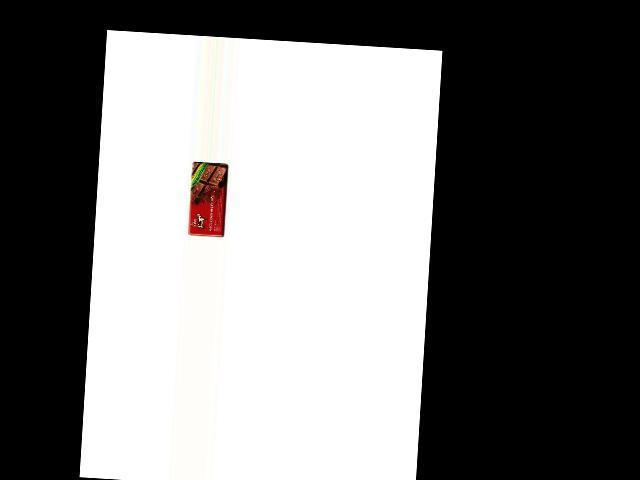chocolate: (187, 161, 230, 238)
